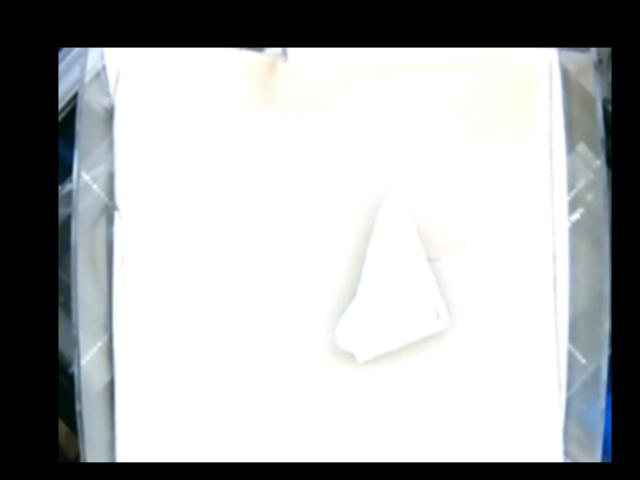China: (335, 182, 446, 360)
